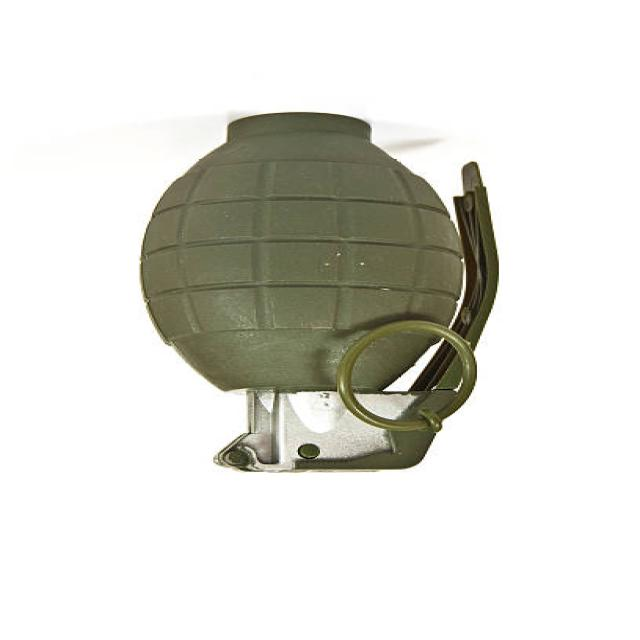grenade: (127, 111, 509, 483)
